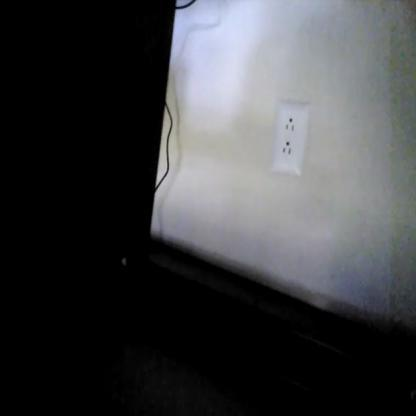OUTLET: (269, 103, 308, 178)
